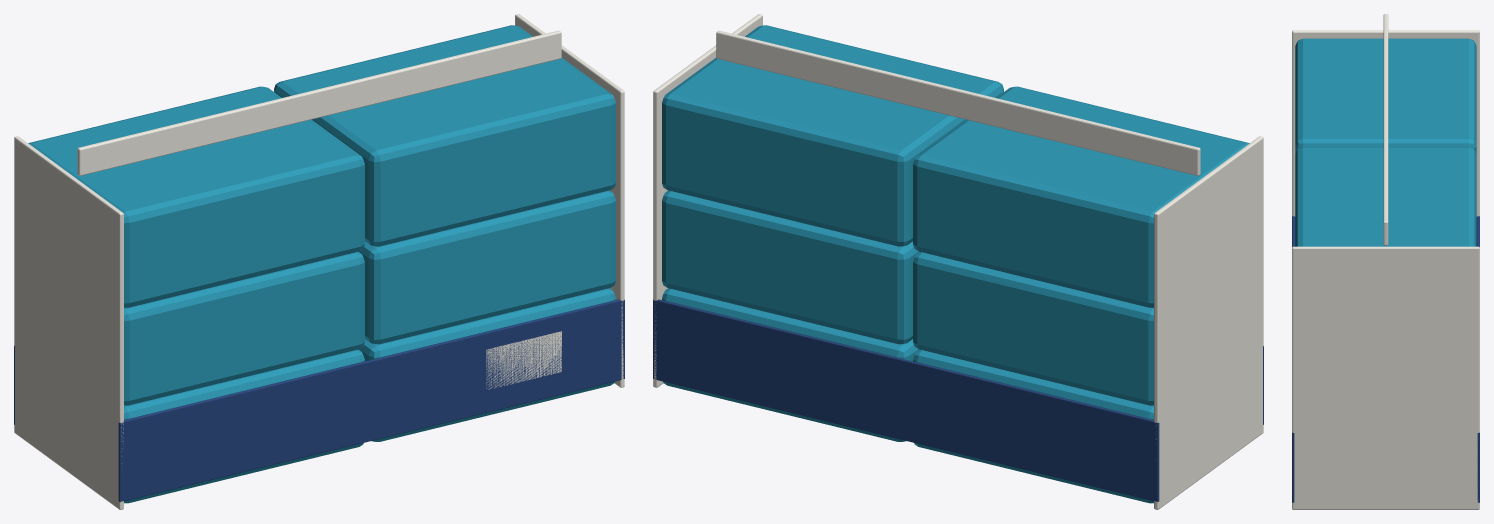
File: tissue-pack-v1.glb
3 views of the same model, side by side, from view 1: azimuth 30°, elevation 25°; view 2: azimuth 150°, elevation 25°; view 3: azimuth 270°, elevation 25° (orthographic). The views are drawn at different scales.
Visible parts, largest first — view 1: packs, front-label, left-seal, top-flap, right-seal, quantity-mark; view 2: packs, back-label, left-seal, top-flap, right-seal; view 3: right-seal, packs, left-seal, top-flap, back-label, front-label.
Boxes of the visible parts, left/top/right/bottom form: packs: left=28, top=25, right=615, bottom=503; front-label: left=118, top=299, right=624, bottom=501; left-seal: left=14, top=136, right=123, bottom=509; top-flap: left=77, top=30, right=561, bottom=175; right-seal: left=515, top=14, right=624, bottom=387; quantity-mark: left=486, top=331, right=561, bottom=389; packs: left=662, top=25, right=1249, bottom=503; back-label: left=653, top=299, right=1159, bottom=501; left-seal: left=1154, top=136, right=1263, bottom=509; top-flap: left=716, top=30, right=1200, bottom=175; right-seal: left=653, top=14, right=762, bottom=387; right-seal: left=1292, top=246, right=1479, bottom=509; packs: left=1295, top=38, right=1476, bottom=246; left-seal: left=1292, top=30, right=1479, bottom=216; top-flap: left=1383, top=14, right=1388, bottom=245; back-label: left=1476, top=216, right=1479, bottom=502; front-label: left=1292, top=216, right=1295, bottom=502.
Size of the model in its own units: 0.33 by 0.2 by 0.12.
